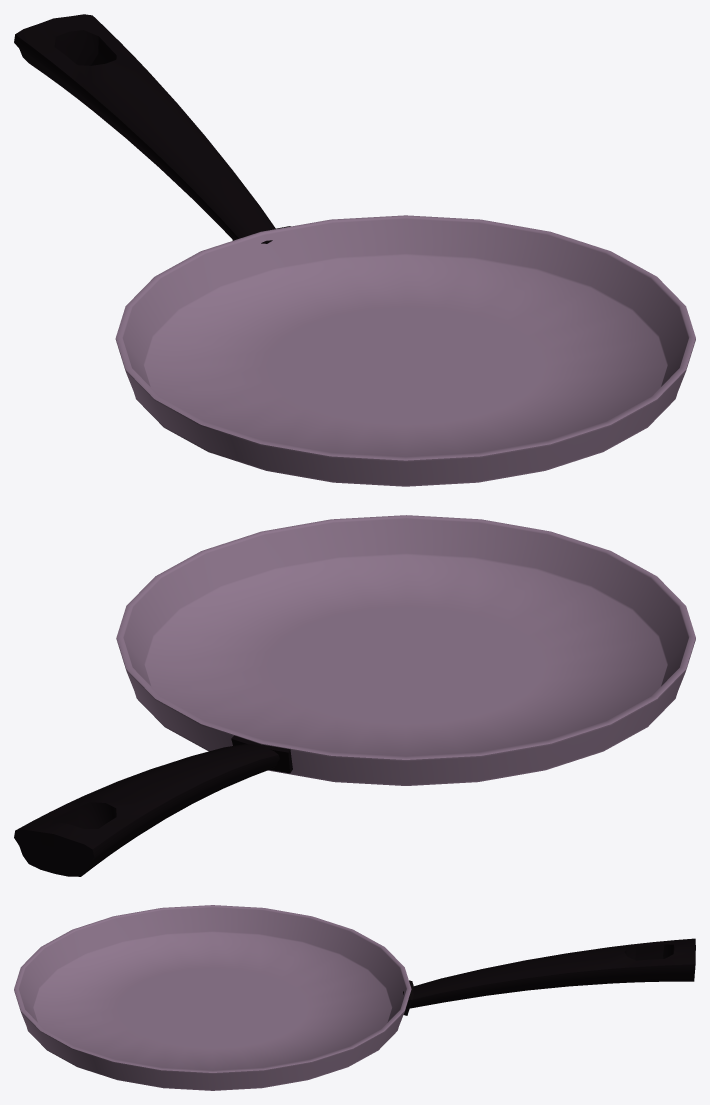
Rendered from Pan 2.fbx.
3 renders of one model, top to bottom at view 1: azimuth 30°, elevation 25°; view 2: azimuth 150°, elevation 25°; view 3: azimuth 270°, elevation 25°, orthographic. The views are drawn at different scales.
Parts seen in each view (by area): view 1: Pan_OBJ; view 2: Pan_OBJ; view 3: Pan_OBJ.
Part boxes in pixels (x1=…): Pan_OBJ: x1=14, y1=14, x2=695, y2=486; Pan_OBJ: x1=14, y1=515, x2=695, y2=876; Pan_OBJ: x1=14, y1=905, x2=695, y2=1090.
Size of the model in its own units: 160 by 27.99 by 274.
